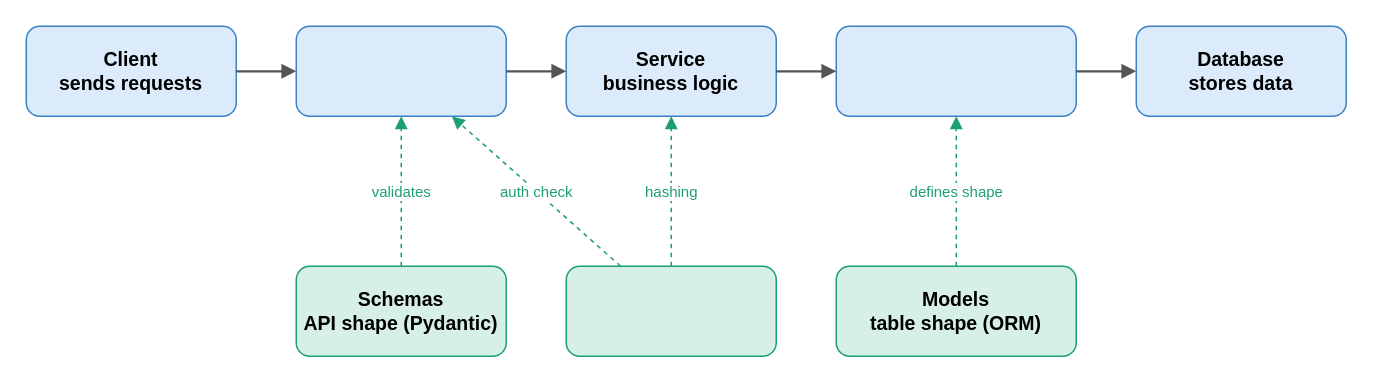
The diagram is 1373 pixels wide and 383 high, and some of its shapes have lost their labels. Each missing label, with the centre of its shape:
"Core hashing + JWT" belongs at [670,310].
"Repository runs queries" belongs at [955,70].
"Router routes & validates (incl. /health)" belongs at [400,70].
